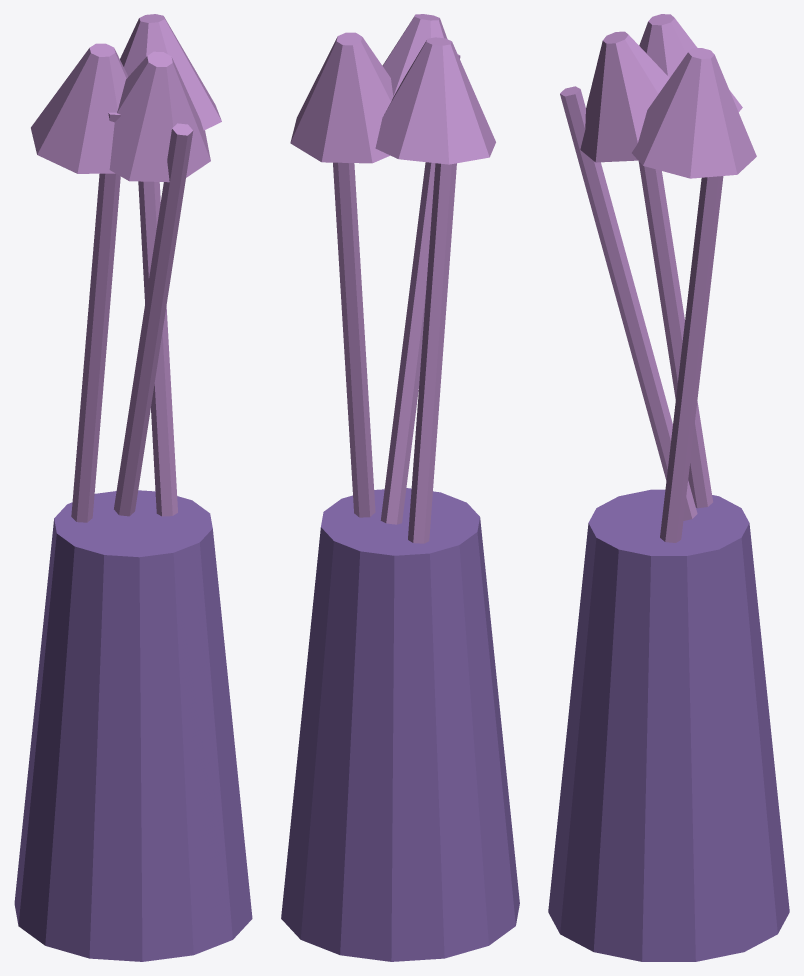
The model's file is Vase.fbx.
3 renders of one model, left to right at view 1: azimuth 30°, elevation 25°; view 2: azimuth 150°, elevation 25°; view 3: azimuth 270°, elevation 25°, orthographic.
Parts seen in each view (by area): view 1: Body, Bloom3, Bloom1, Bloom2; view 2: Body, Bloom1, Bloom2, Bloom3; view 3: Body, Bloom2, Bloom3, Bloom1.
Boxes of the visible parts, x1,y1,x2,y2 form: Body: (14,490,252,961); Bloom3: (109,51,210,516); Bloom1: (31,43,128,522); Bloom2: (120,14,221,516); Body: (281,488,519,961); Bloom1: (375,37,495,543); Bloom2: (290,32,393,517); Bloom3: (380,14,460,524); Body: (548,489,789,961); Bloom2: (632,48,756,542); Bloom3: (560,31,697,520); Bloom1: (638,14,742,508).
Size of the model in its own units: 8.77 by 36.06 by 9.
